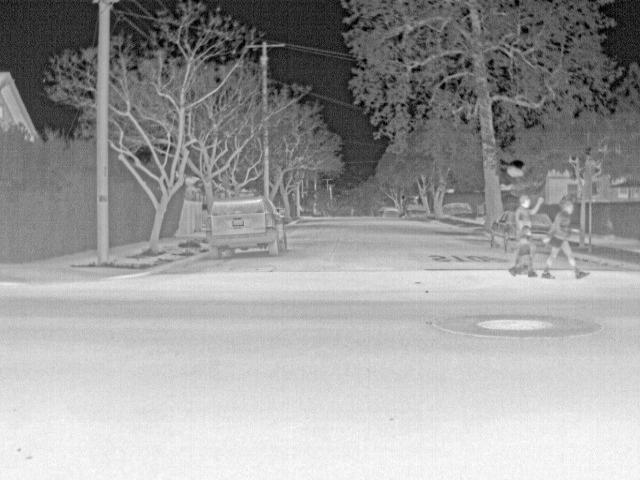car: (203, 193, 290, 259), (489, 209, 517, 252), (535, 211, 551, 248), (404, 204, 428, 222), (384, 206, 399, 220), (377, 207, 384, 217)
person: (547, 196, 589, 279), (511, 225, 537, 278), (517, 193, 534, 227)
